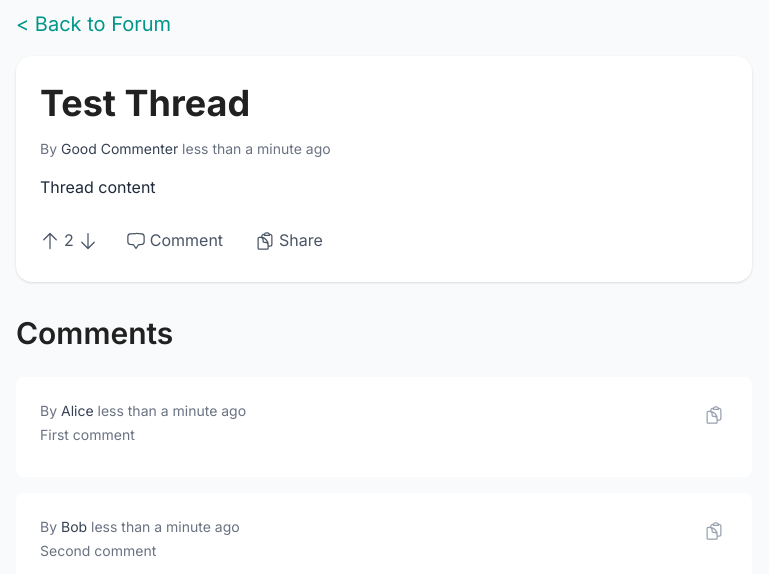
Test: ThreadDetail: Voting test cases (Integration) › downvotes a thread
Check: the heading "Test Thread" is shown, box [40,81,250,125]
Click the button named "Downvote" at [88, 241], box [78,231,98,251]
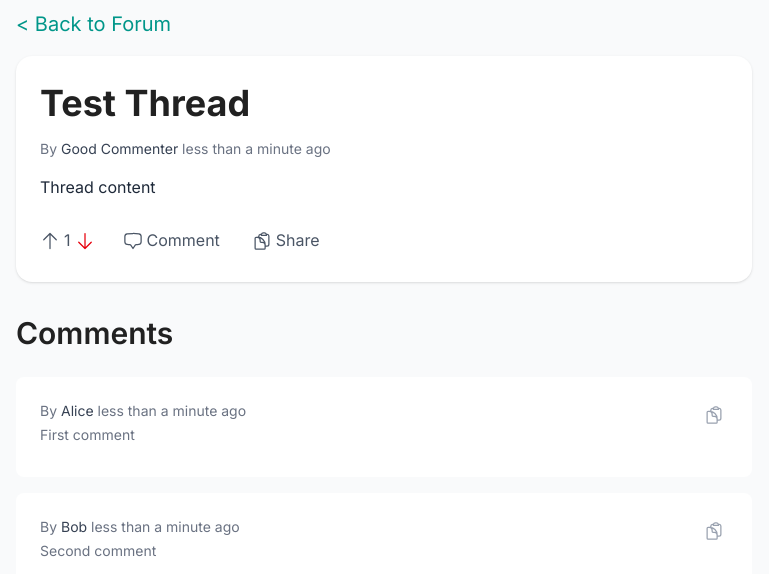
Check: the text "1" is shown, box [64,228,70,254]
